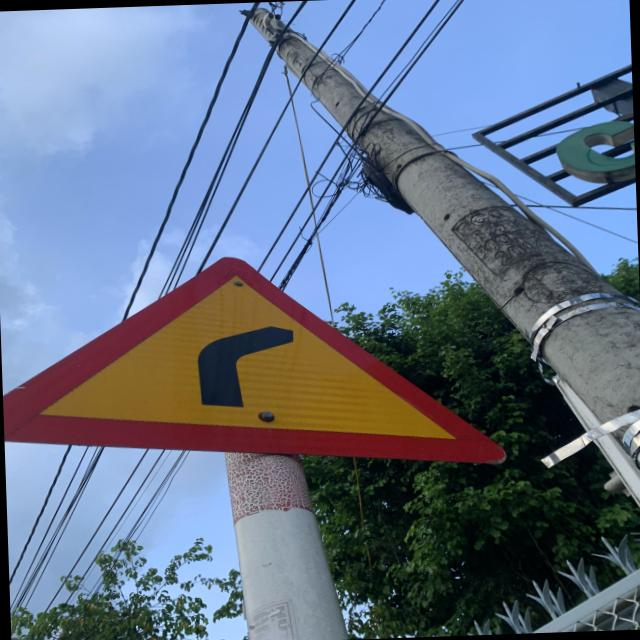Duong_Nguoi_Di_Bo_Cat_Ngang: (0, 239, 512, 484)
